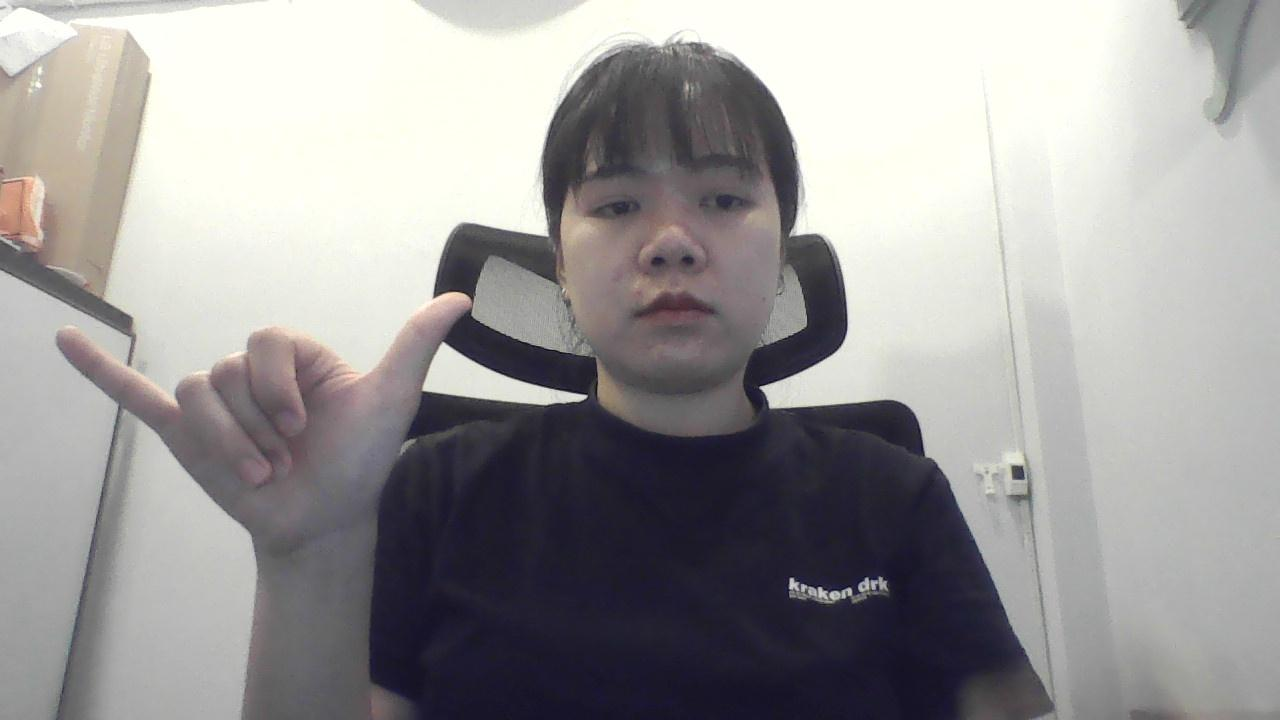Y: (50, 292, 519, 559)
